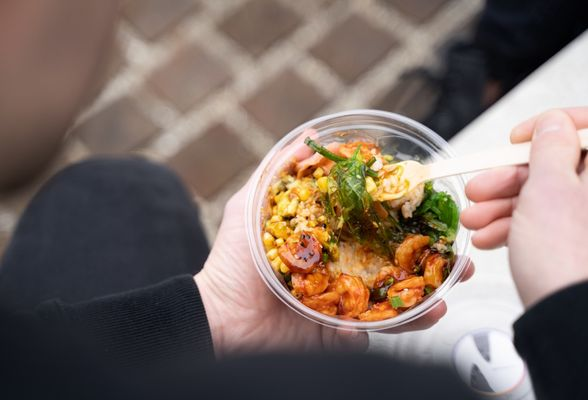sushi: (245, 110, 473, 334)
